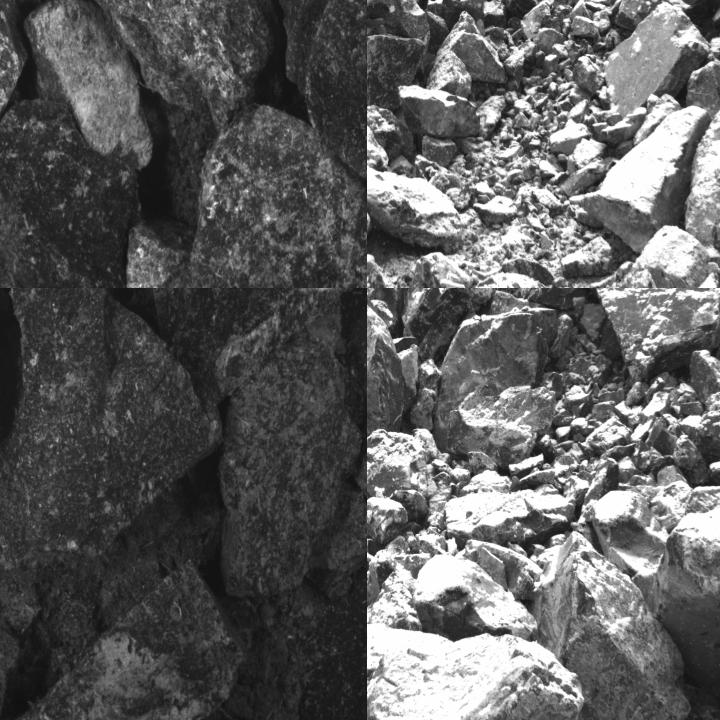stone: (0, 288, 225, 573), (0, 558, 249, 719), (220, 333, 365, 597), (190, 106, 366, 287), (534, 531, 692, 719), (151, 288, 366, 419), (0, 100, 140, 287), (84, 0, 275, 124), (367, 619, 587, 719), (27, 0, 154, 170), (279, 0, 366, 224), (578, 103, 706, 249), (647, 484, 719, 701), (434, 310, 556, 436), (591, 288, 719, 383), (0, 288, 234, 338), (410, 553, 544, 637), (604, 2, 702, 113), (444, 384, 552, 464), (367, 158, 467, 244), (444, 485, 575, 545), (592, 490, 670, 590), (401, 288, 504, 359), (304, 489, 366, 599), (367, 300, 414, 436), (681, 88, 719, 247), (440, 9, 507, 85), (124, 215, 193, 287), (367, 35, 427, 111), (367, 431, 434, 498), (399, 86, 480, 141), (367, 572, 421, 630), (0, 565, 43, 635), (367, 0, 430, 44), (367, 496, 409, 552), (426, 52, 472, 97), (684, 61, 719, 114), (353, 394, 366, 501), (614, 0, 666, 26), (573, 57, 605, 95), (517, 288, 574, 306), (572, 16, 602, 40)
